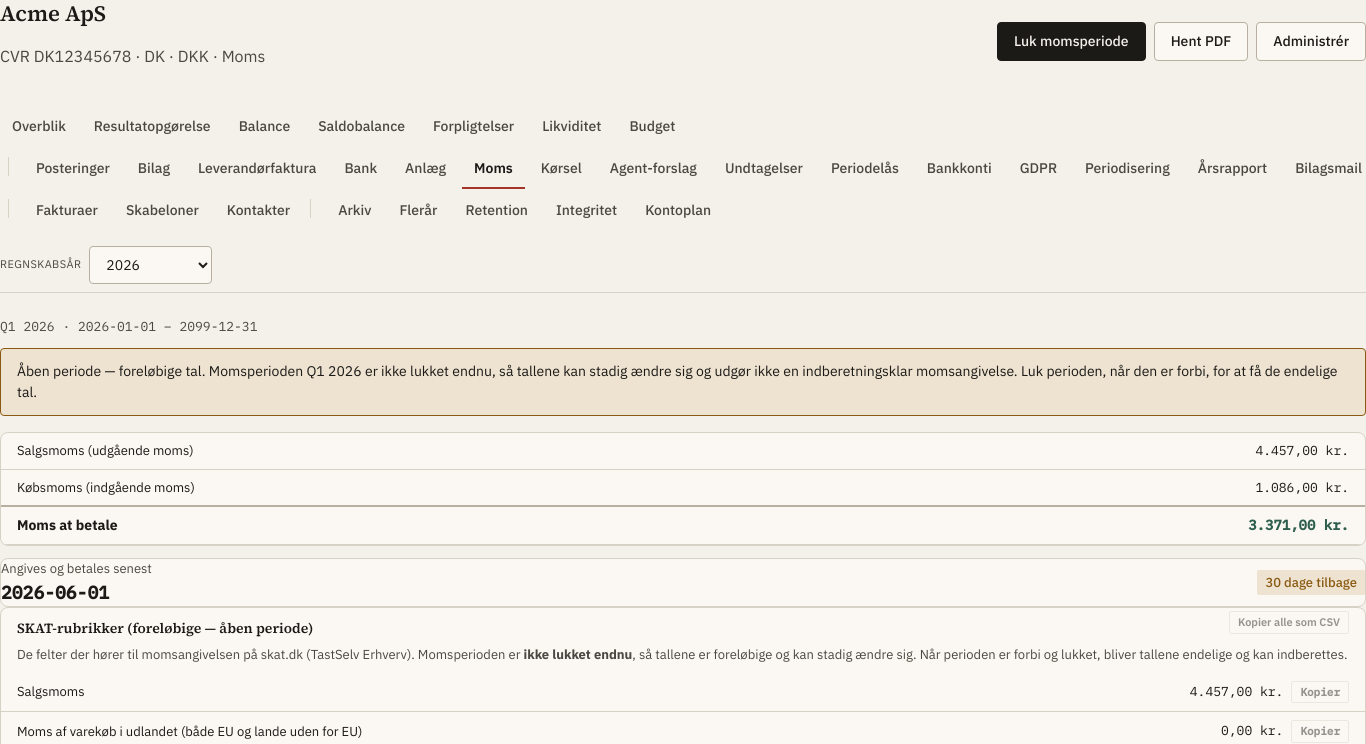
Test case: VatView — Moms › closing a not-yet-ended period warns and needs an acknowledgement
The width and height of the screenshot is (1366, 744).
Click the button "Luk momsperiode": coordinates (1071, 42) [997,22,1146,61]
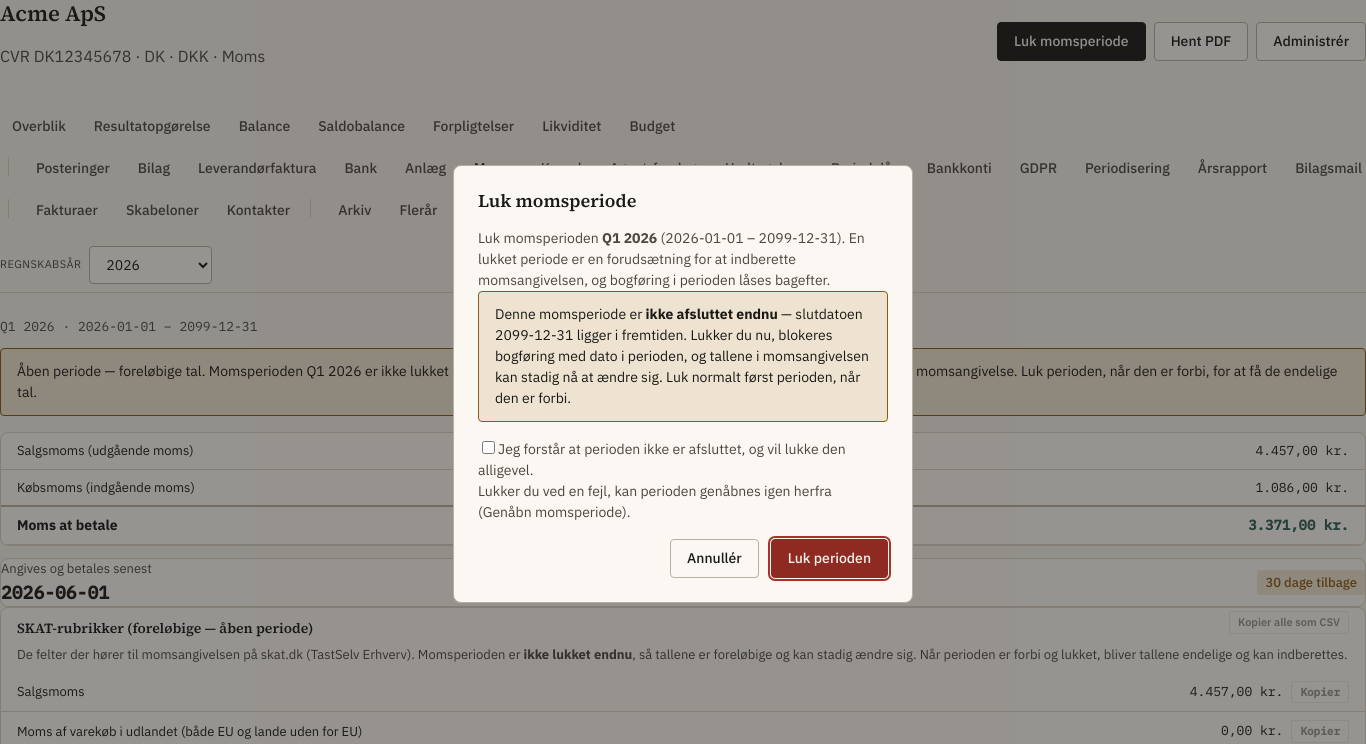
Result: the text "ikke afsluttet endnu" is shown at [646,305,778,323]
# Confirming WITHOUT ticking the acknowledgement is blocked.
Click the button "Luk perioden": coordinates (829, 559) [771,539,888,578]
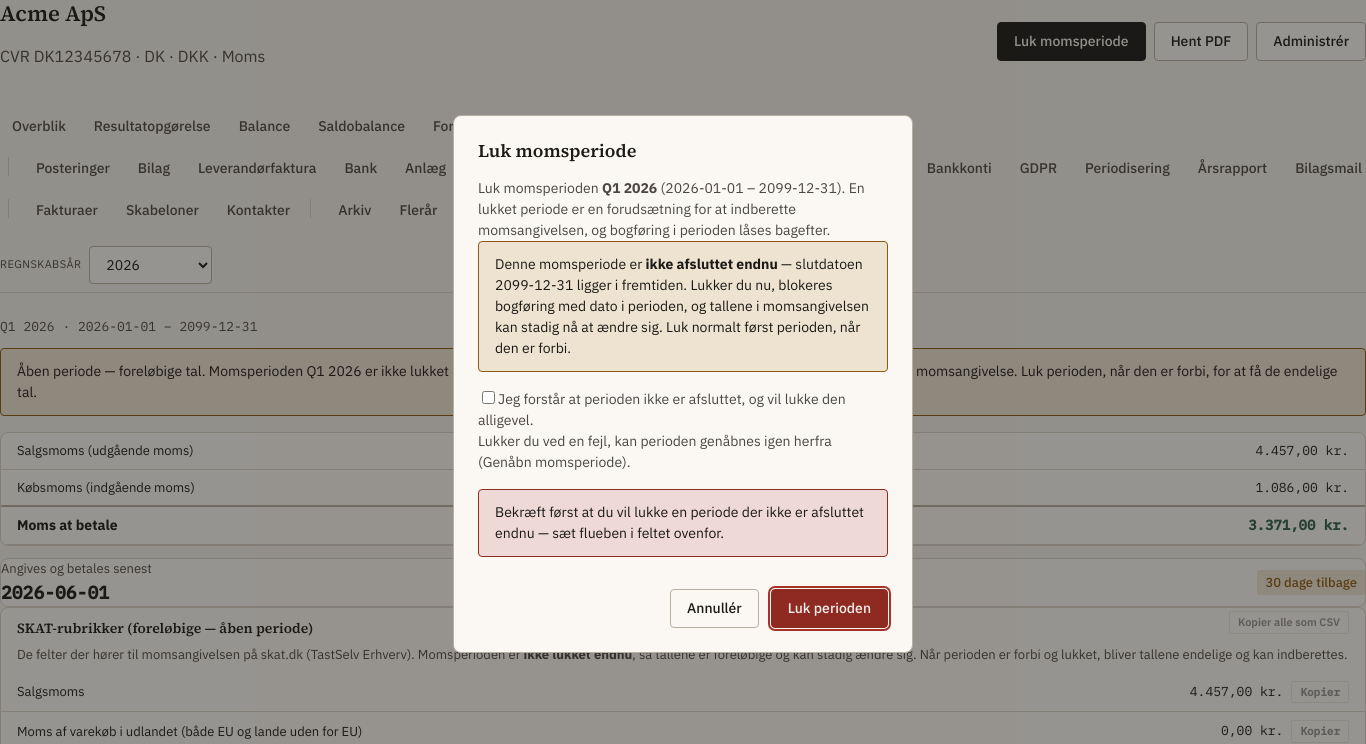
Result: the text "Bekræft først" is shown at [495,503,864,542]
# After ticking the acknowledgement the close goes through.
Click the checkbox: coordinates (488, 398) [482,391,495,404]
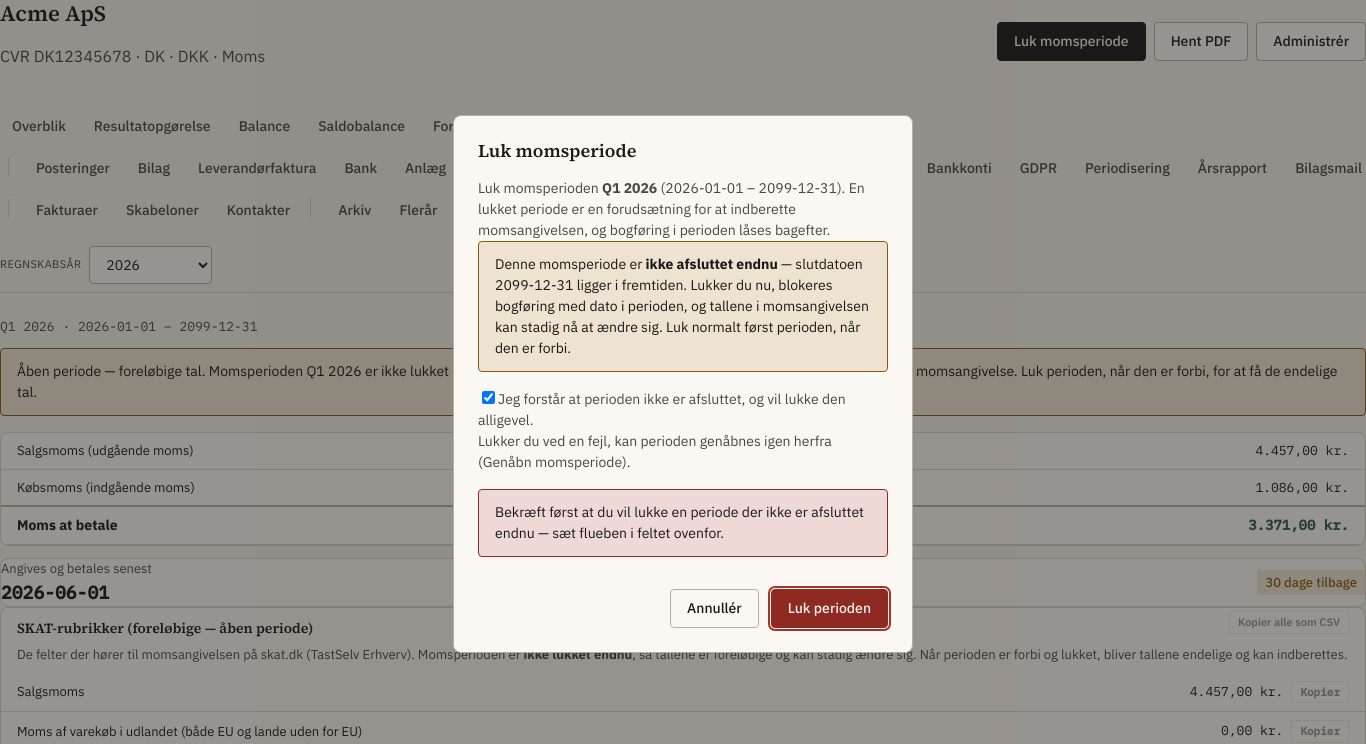
Click the button "Luk perioden": coordinates (829, 609) [771,589,888,628]
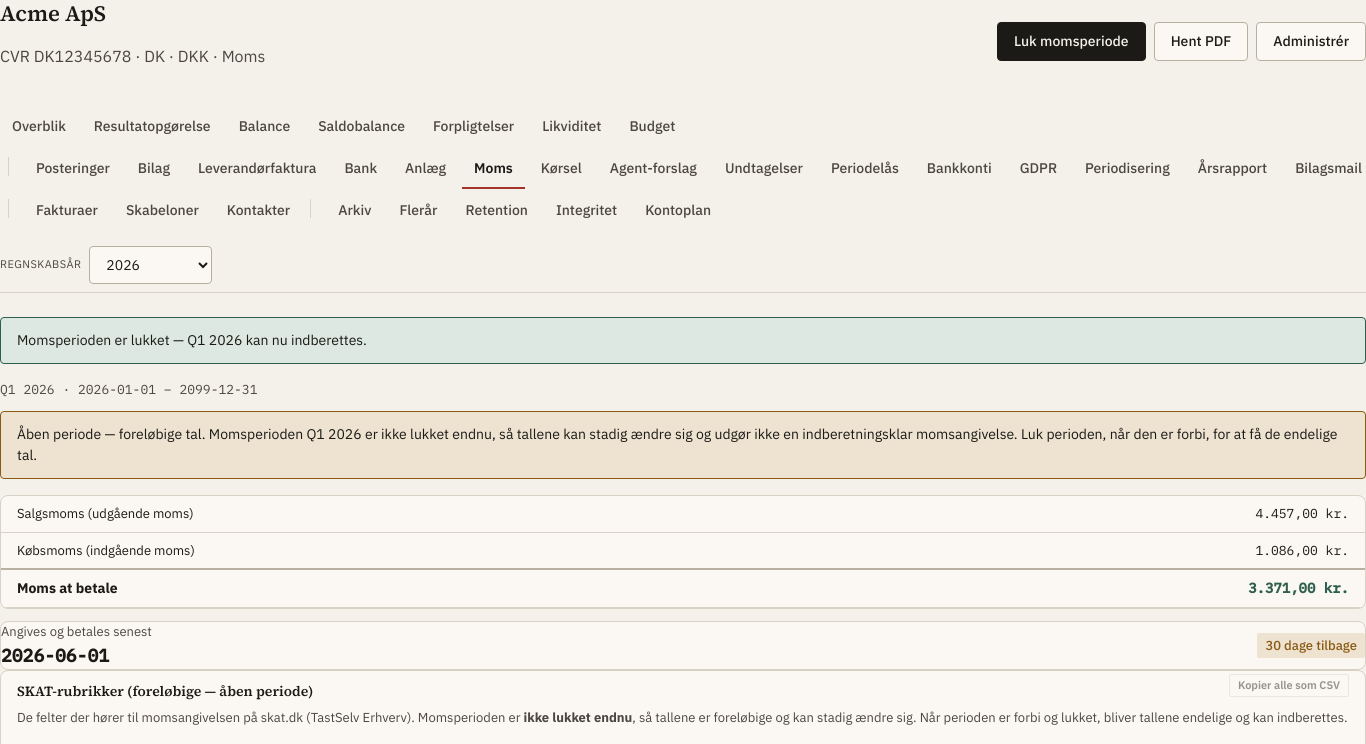
Result: the text "Momsperioden er lukket — Q1 2026 kan nu indberettes." is shown at [0,316,1365,364]
